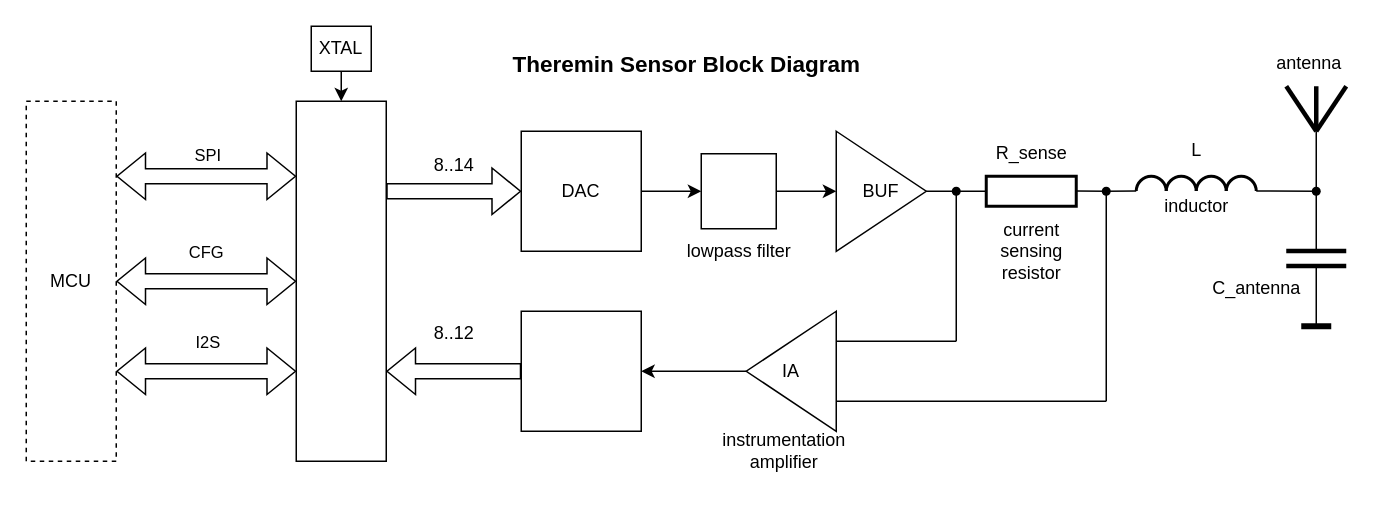
The diagram is 1388 pixels wide and 507 high, and some of its shapes have lost their labels. Here are the shapes that lost their labels. From the top down, the box of each, then its label:
(700, 152, 776, 229): LPF
(295, 100, 386, 461): FPGA
(520, 310, 641, 431): ADC
